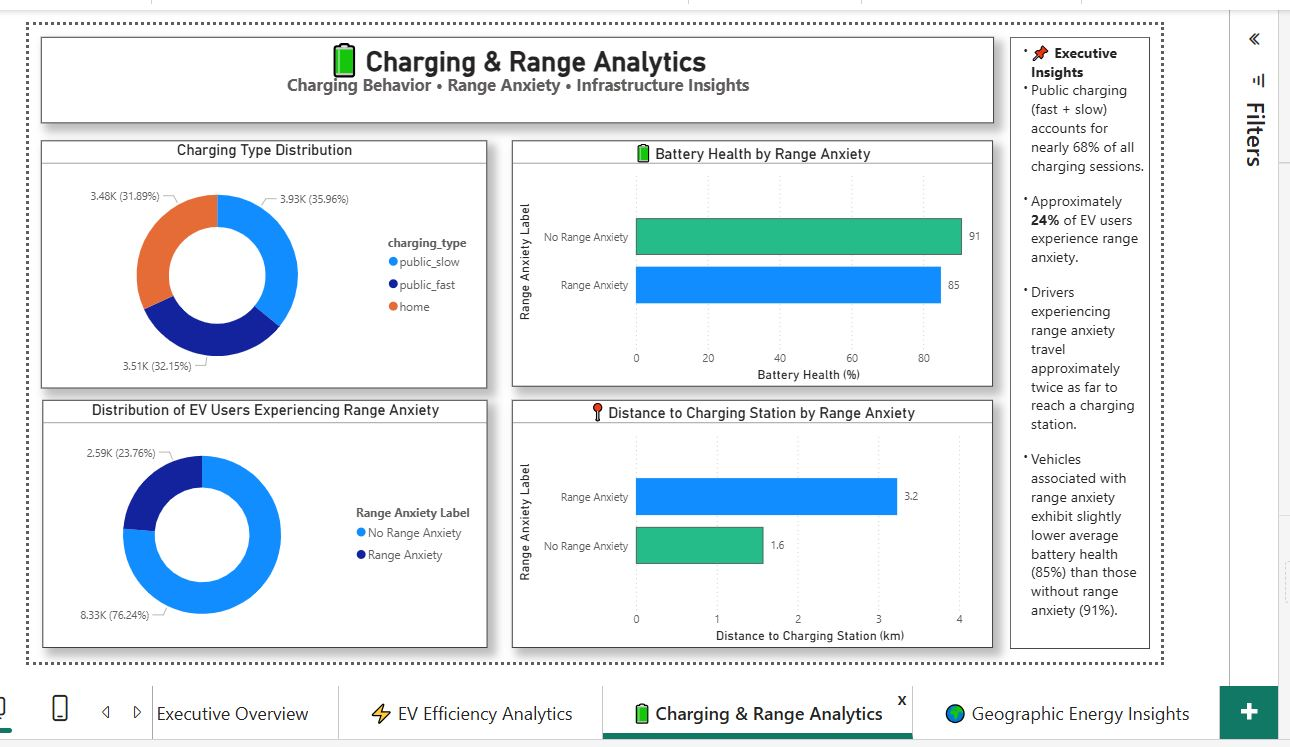

Layout of this report page (visuals, bound fields, positions):
{"tool":"powerbi","page":{"name":"🔋 Charging & Range Analytics","canvas":[1280,720],"ordinal":2},"visuals":[{"type":"donutChart","title":"Charging Type Distribution","fields":{"Category":["ev_final_dashboard_dataset.charging_type"],"Y":["CountNonNull(ev_final_dashboard_dataset.charging_type)"]},"box":[13,130.1,504.2,279.8],"z":0},{"type":"donutChart","title":"Distribution of EV Users Experiencing Range Anxiety","fields":{"Y":["CountNonNull(ev_final_dashboard_dataset.range_anxiety_risk)"],"Category":["ev_final_dashboard_dataset.Range Anxiety Label"]},"box":[14.6,424.5,502.6,279.8],"z":1000},{"type":"barChart","title":"Average Battery Health Across Range Anxiety Groups","fields":{"Y":["Avg(ev_final_dashboard_dataset.battery_health_pct)"],"Category":["ev_final_dashboard_dataset.Range Anxiety Label"]},"box":[546.5,130.1,701,278.1],"z":2000},{"type":"clusteredBarChart","title":"Average Charging Station Distance by Range Anxiety","fields":{"Category":["ev_final_dashboard_dataset.Range Anxiety Label"],"Y":["Avg(ev_final_dashboard_dataset.charging_station_distance_km)"]},"box":[546.5,424.5,701,279.8],"z":3000},{"type":"textbox","title":"🔋 Charging & Range Analytics","box":[13,13,1235.2,98.1],"z":5000}]}

Visuals, with their boxes on the page's 1280x720 design canvas (x1, y1, x2, y2). These are canvas units, not pixel positions in the 1290x747 screenshot, which may show the page scaled, cropped or inside an application window:
"Charging Type Distribution" donutChart: bbox=[13, 130, 517, 410]
"Distribution of EV Users Experiencing Range Anxiety" donutChart: bbox=[15, 424, 517, 704]
"Average Battery Health Across Range Anxiety Groups" barChart: bbox=[546, 130, 1248, 408]
"Average Charging Station Distance by Range Anxiety" clusteredBarChart: bbox=[546, 424, 1248, 704]
"🔋 Charging & Range Analytics" textbox: bbox=[13, 13, 1248, 111]
